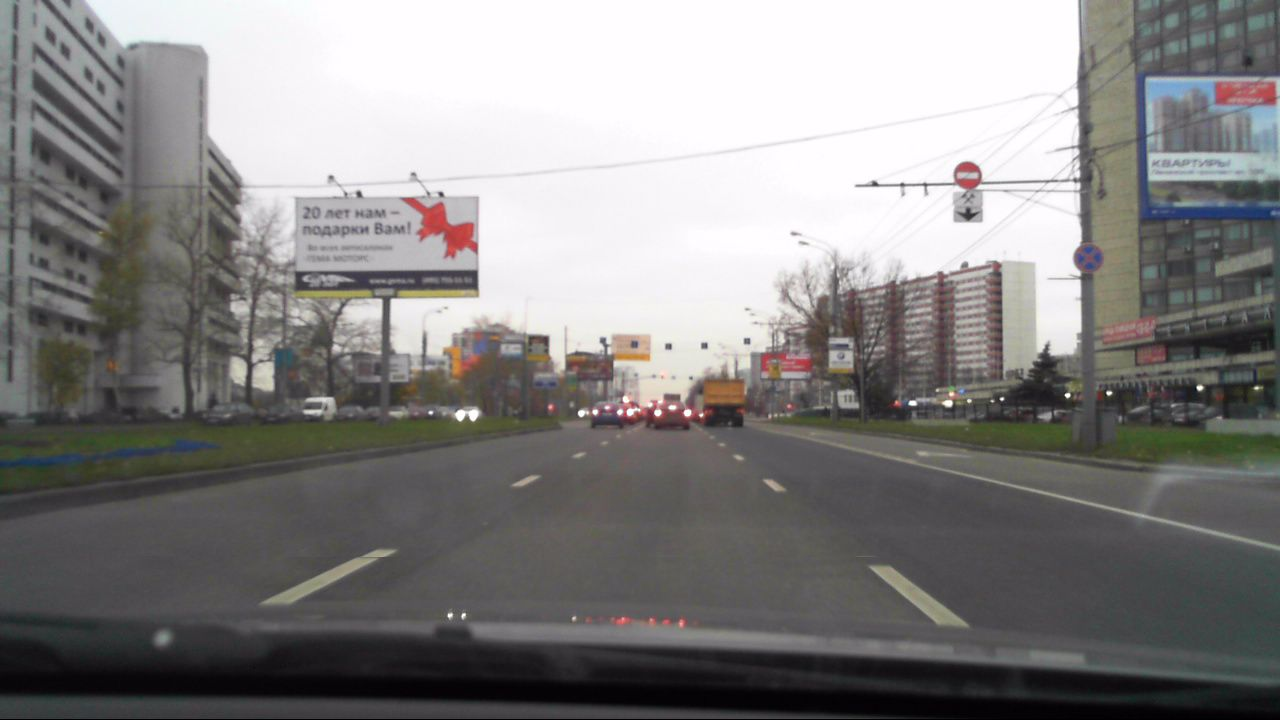No Parking: (1072, 242, 1104, 274)
